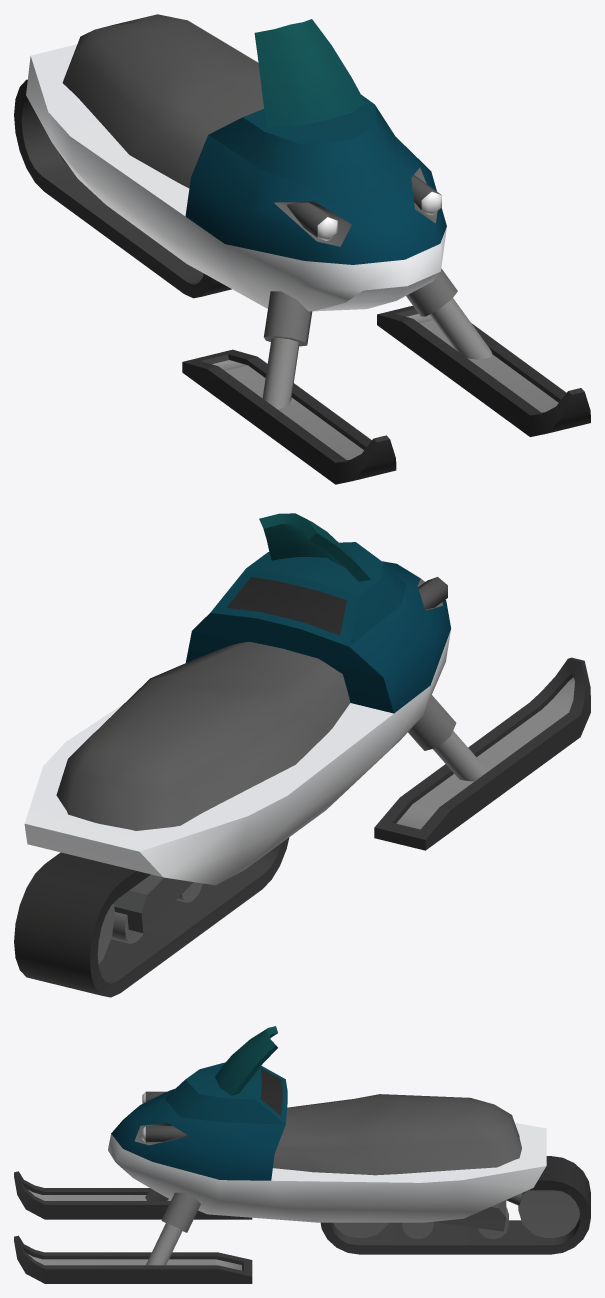
File: snowmobile_001.fbx
3 views of the same model, one above another, from view 1: azimuth 30°, elevation 25°; view 2: azimuth 150°, elevation 25°; view 3: azimuth 270°, elevation 25° (orthographic). The views are drawn at different scales.
Visible parts, largest first — view 1: snowmobile_001; view 2: snowmobile_001; view 3: snowmobile_001.
Boxes of the visible parts, <box> form: snowmobile_001: <box>14,14,590,484</box>; snowmobile_001: <box>14,513,590,997</box>; snowmobile_001: <box>14,1026,590,1283</box>.
Size of the model in its own units: 125 by 375 by 152.
